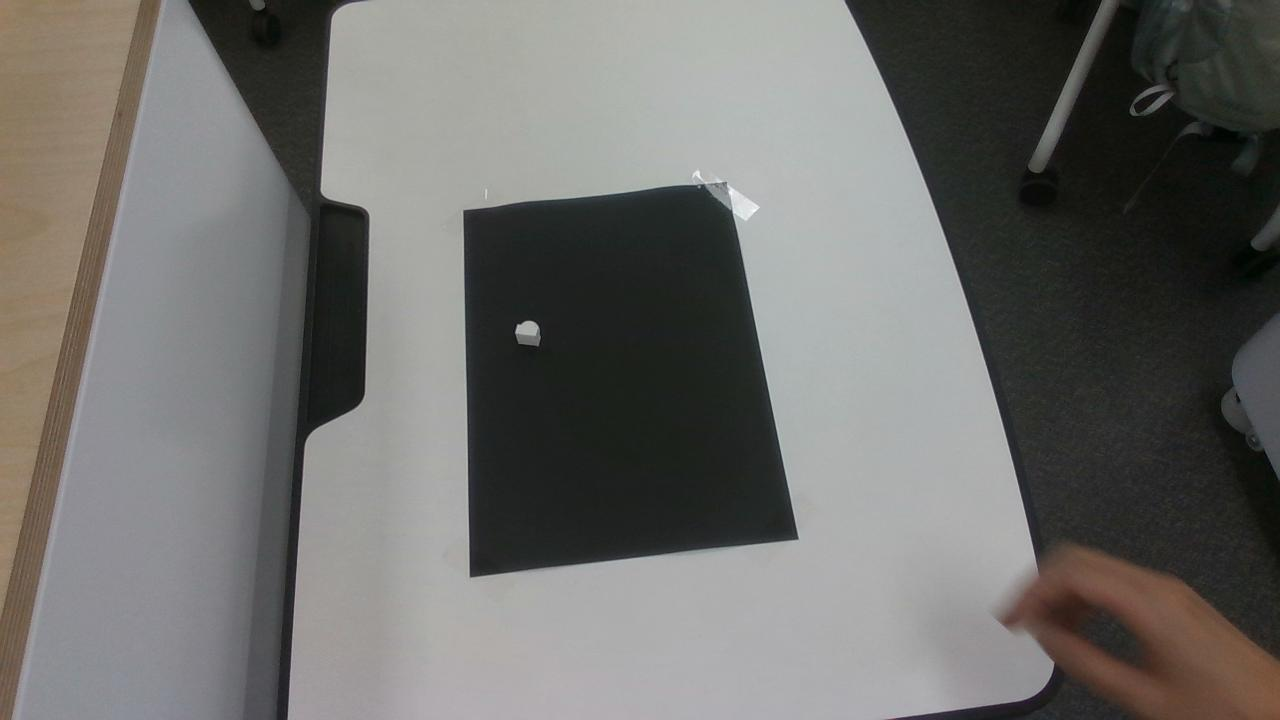cube: (515, 320, 540, 344)
